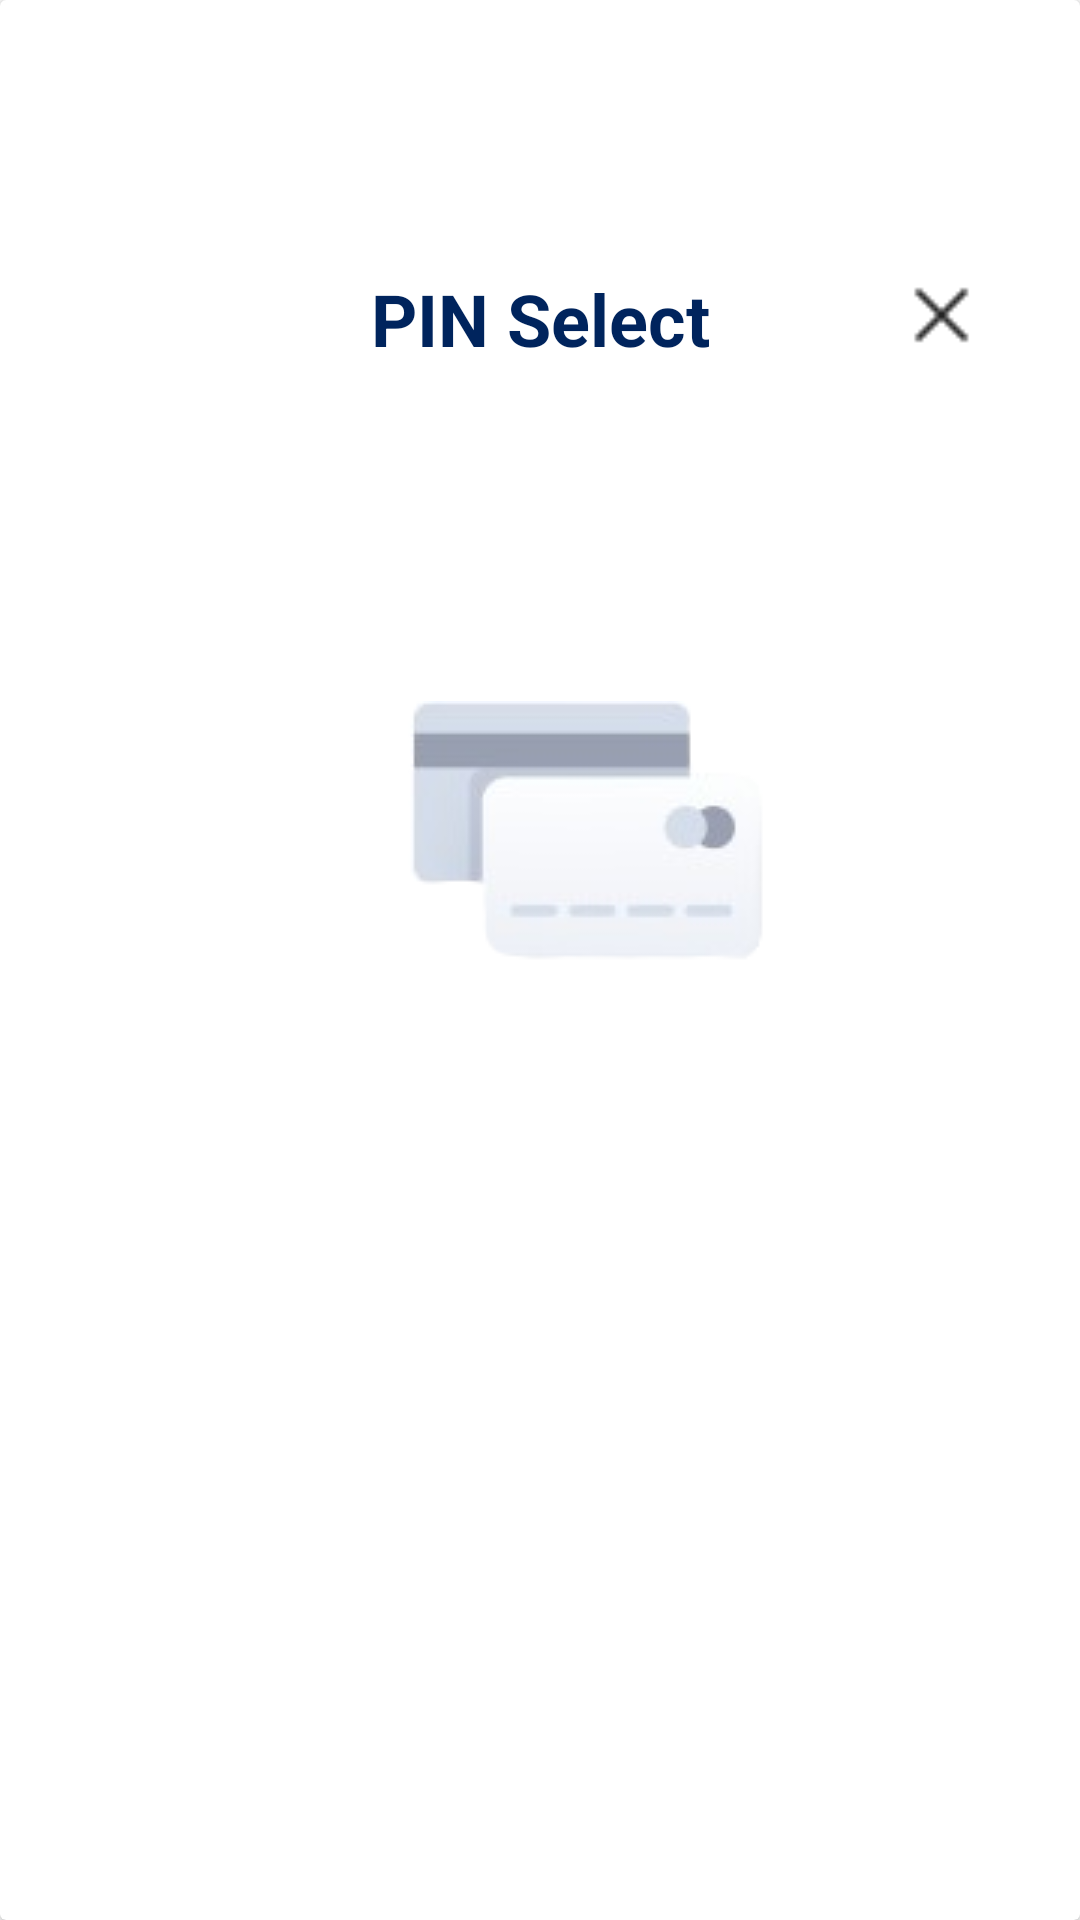

Locate icon controls on the screen. Image size 1080 × 1920, boxes as (x1, y1, x2, y2).
credit card: (413, 703, 736, 918)
